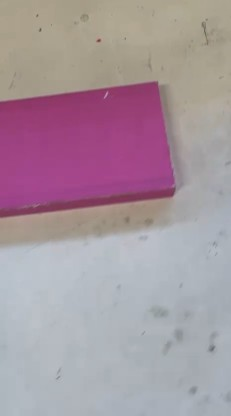pink: (17, 79, 165, 215)
